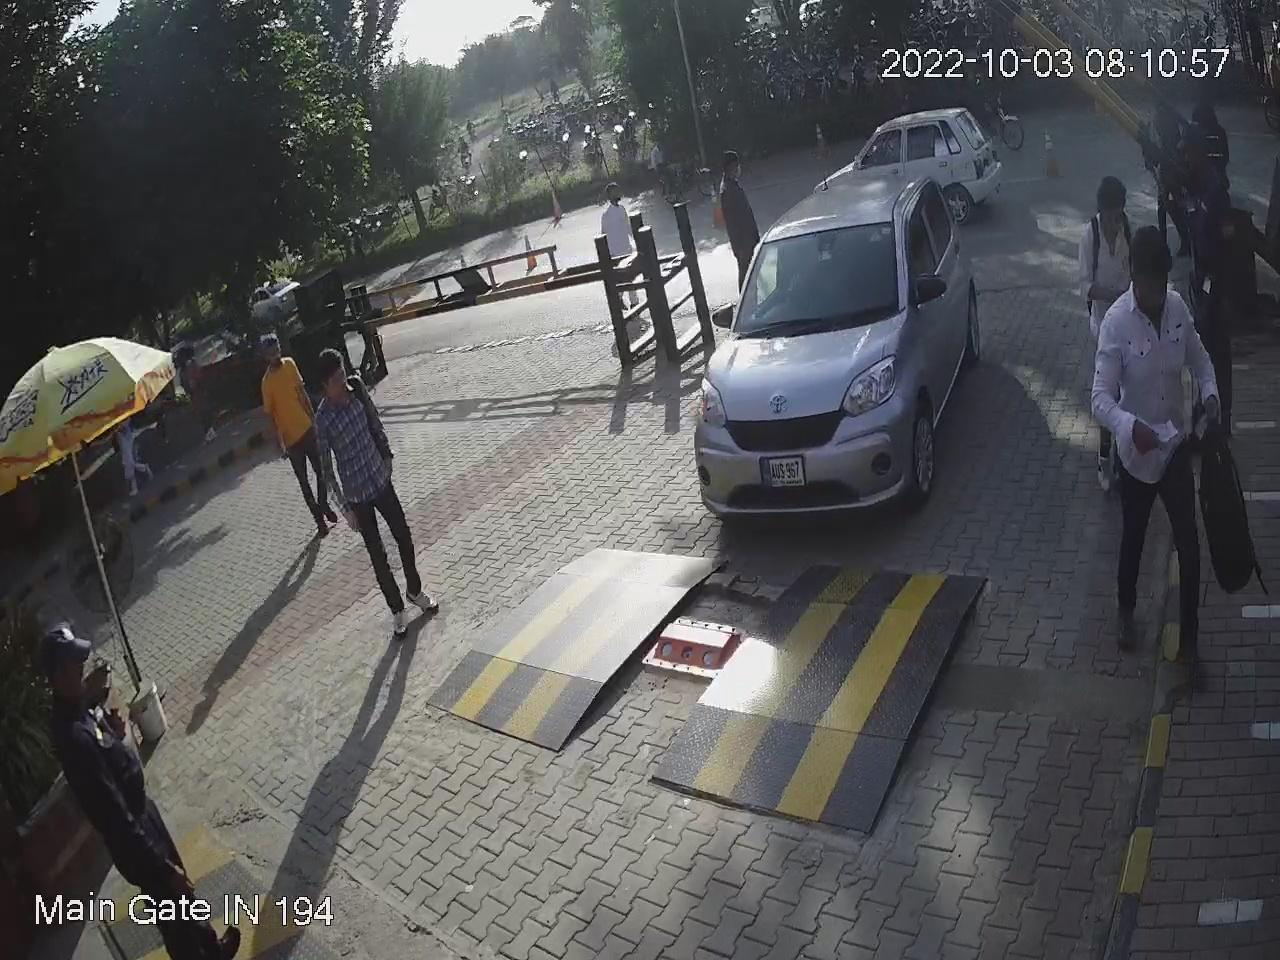windshield: (728, 213, 903, 343)
